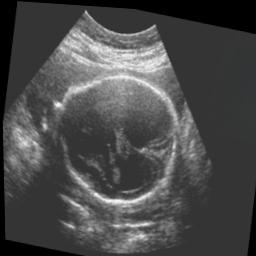abnormal: (42, 55, 193, 219)
